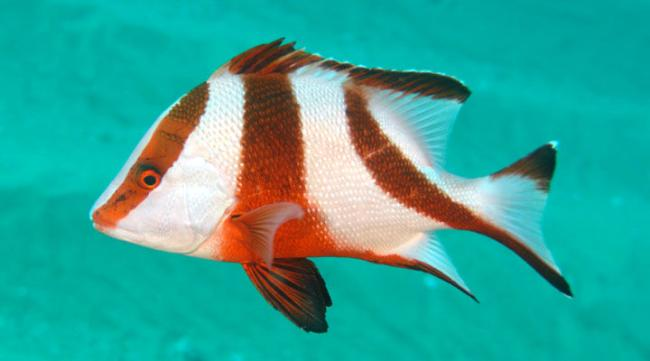fish: (88, 36, 577, 335)
